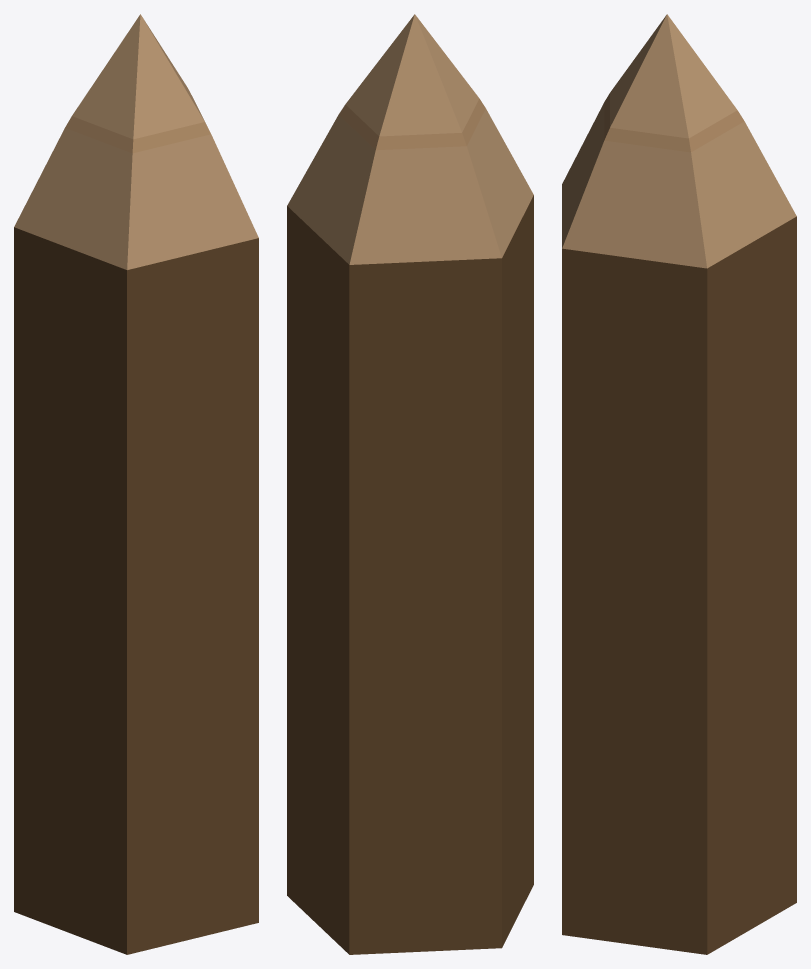
The model's file is Fence_03.fbx.
The picture shows the model from 3 angles, left to right: view 1: azimuth 30°, elevation 25°; view 2: azimuth 150°, elevation 25°; view 3: azimuth 270°, elevation 25°; orthographic projection.
Visible parts, largest first — view 1: Fence_03; view 2: Fence_03; view 3: Fence_03.
Boxes of the visible parts, x1,y1,x2,y2 form: Fence_03: [14, 14, 258, 954]; Fence_03: [287, 14, 533, 954]; Fence_03: [562, 14, 796, 954].
Bounding box in the file's own units: 0.473 × 1.88 × 0.4498.
